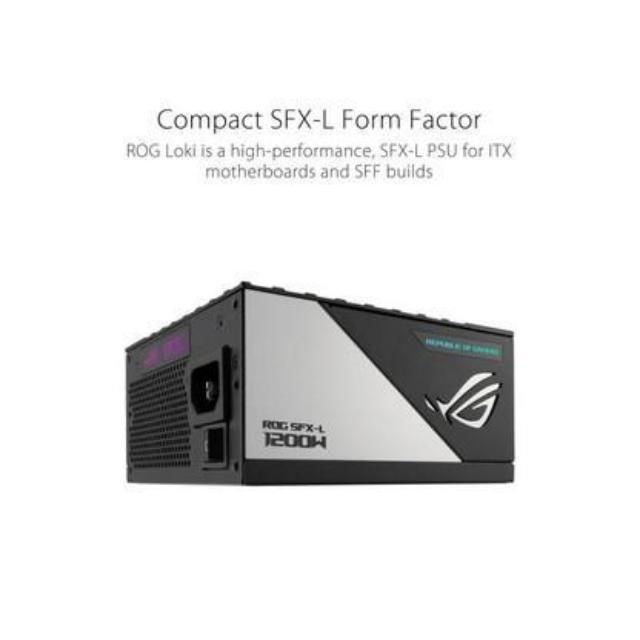PSU: (116, 274, 521, 524)
